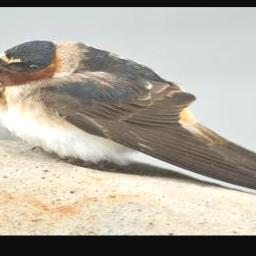Swallow: (0, 39, 256, 197)
